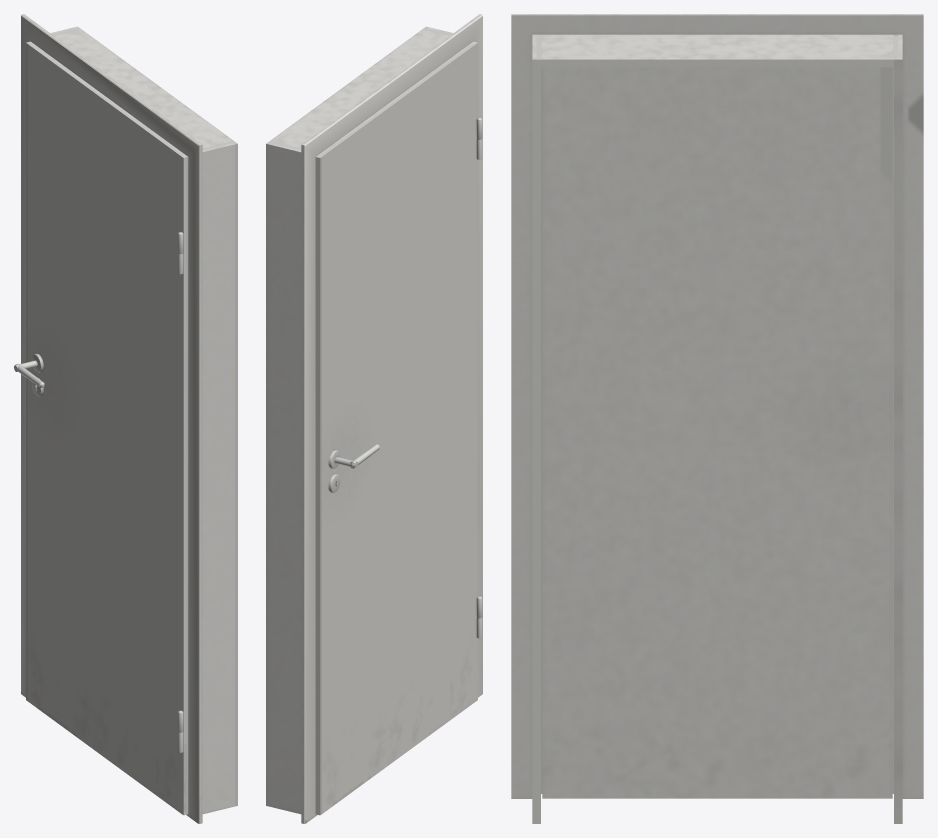
The model's file is same_seed_desk_door.glb.
3 views of the same model, side by side, from view 1: azimuth 30°, elevation 25°; view 2: azimuth 150°, elevation 25°; view 3: azimuth 270°, elevation 25° (orthographic). The views are drawn at different scales.
Parts seen in each view (by area): view 1: door_leaf_low, door_lining_front_low, door_architrave_low, door_lining_head_low, door_handle_low, door_hinges_low; view 2: door_leaf_low, door_lining_back_low, door_architrave_low, door_lining_head_low, door_handle_low, door_hinges_low; view 3: door_leaf_low, door_architrave_low, door_lining_head_low, door_lining_back_low, door_lining_front_low.
Boxes of the visible parts, bbox=[...] form: door_leaf_low: bbox=[26, 41, 188, 815]; door_lining_front_low: bbox=[202, 141, 237, 814]; door_architrave_low: bbox=[21, 14, 202, 823]; door_lining_head_low: bbox=[54, 29, 233, 148]; door_handle_low: bbox=[14, 353, 44, 396]; door_hinges_low: bbox=[178, 232, 183, 752]; door_leaf_low: bbox=[315, 41, 477, 815]; door_lining_back_low: bbox=[266, 141, 301, 814]; door_architrave_low: bbox=[301, 14, 482, 823]; door_lining_head_low: bbox=[270, 29, 449, 148]; door_handle_low: bbox=[328, 444, 379, 492]; door_hinges_low: bbox=[476, 117, 482, 638]; door_leaf_low: bbox=[541, 67, 893, 798]; door_architrave_low: bbox=[511, 14, 923, 798]; door_lining_head_low: bbox=[541, 34, 893, 67]; door_lining_back_low: bbox=[894, 34, 902, 823]; door_lining_front_low: bbox=[532, 34, 540, 823].
Bounding box in the file's own units: 0.2404 × 2.04 × 0.974.
3 materials, 3 textured.
